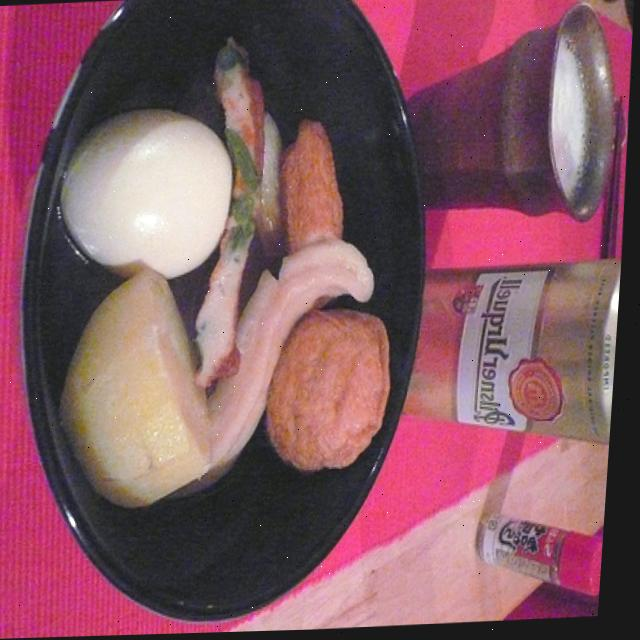汤锅炖物: (46, 23, 415, 513)
